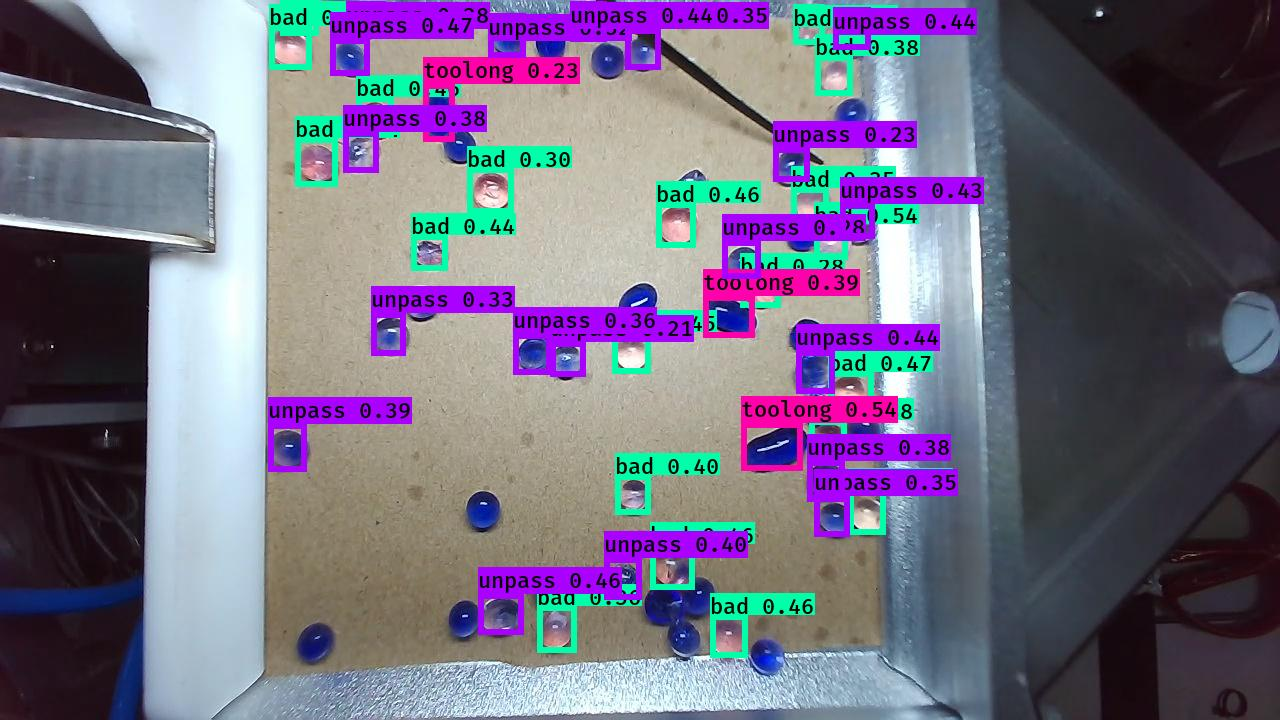bad: (649, 545, 695, 590), (295, 143, 342, 187), (469, 171, 514, 214), (659, 204, 700, 249), (793, 1, 830, 50), (610, 335, 652, 376), (272, 29, 313, 70), (706, 617, 747, 658), (845, 496, 886, 536), (792, 187, 833, 225), (359, 101, 395, 142), (538, 611, 574, 652), (814, 229, 852, 266), (820, 56, 854, 97), (409, 239, 451, 272), (743, 273, 780, 310), (832, 374, 871, 409), (614, 478, 651, 513), (282, 1, 319, 35), (329, 118, 365, 152), (811, 426, 845, 459)
defact: (669, 167, 708, 202)
pass: (615, 280, 662, 325), (296, 622, 336, 665), (530, 567, 569, 611), (643, 587, 686, 626), (847, 410, 882, 456), (465, 489, 502, 532), (835, 95, 872, 137), (446, 597, 481, 641), (537, 303, 575, 341), (441, 128, 481, 164), (534, 22, 569, 62), (788, 315, 825, 352), (667, 623, 703, 660), (686, 574, 715, 619), (783, 219, 818, 255), (590, 43, 625, 77)
toolong: (740, 423, 808, 472), (702, 294, 758, 337), (418, 85, 456, 142)
unpass: (832, 3, 874, 59), (267, 428, 313, 473), (792, 351, 837, 395), (481, 591, 522, 637), (370, 316, 410, 358), (343, 1, 385, 40), (624, 32, 662, 74), (748, 634, 786, 676), (808, 462, 845, 502), (401, 284, 439, 322), (332, 40, 369, 79), (490, 17, 526, 57), (772, 148, 807, 189), (517, 333, 552, 373), (573, 4, 608, 43), (817, 496, 853, 533), (345, 137, 382, 173), (549, 343, 585, 380), (842, 209, 876, 248), (799, 388, 835, 424), (607, 562, 641, 599), (726, 247, 760, 282)
